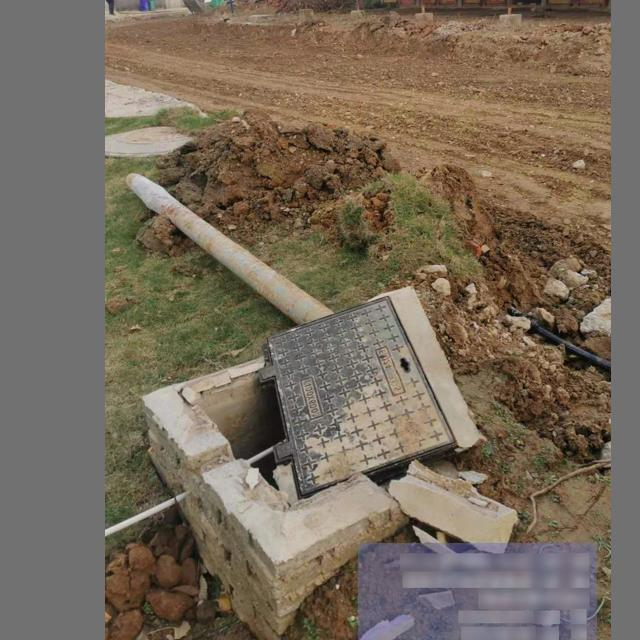circle: (165, 283, 507, 545)
